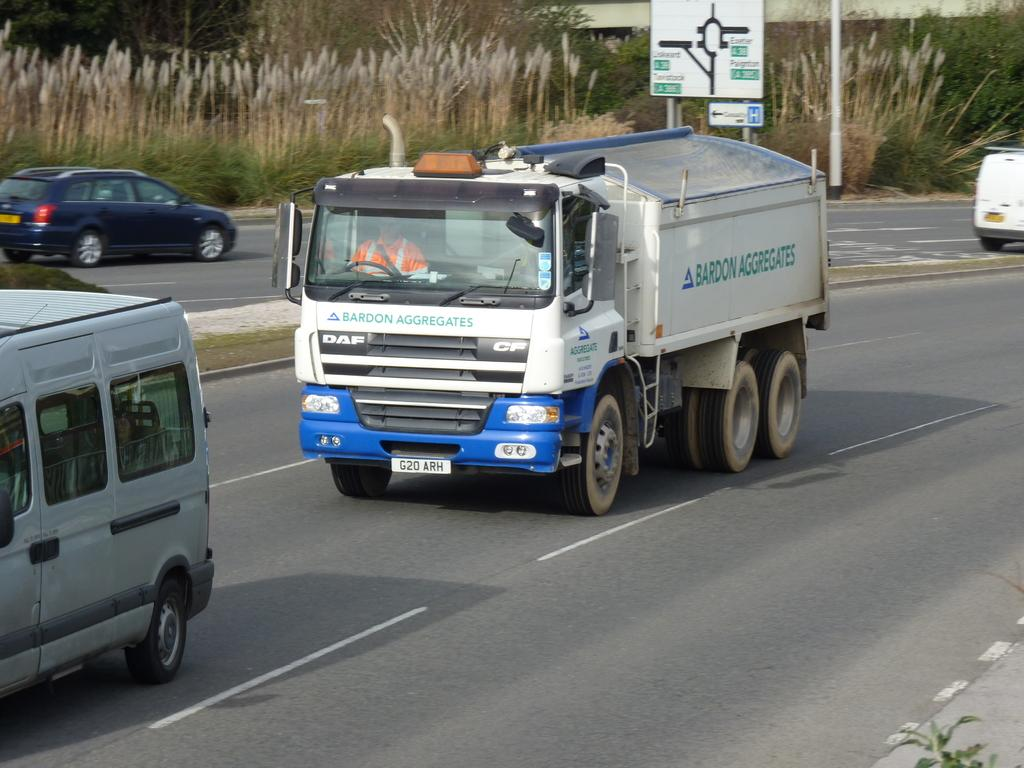vehicle: (272, 126, 830, 517), (1, 289, 213, 697), (0, 166, 237, 268), (972, 146, 1024, 251)
